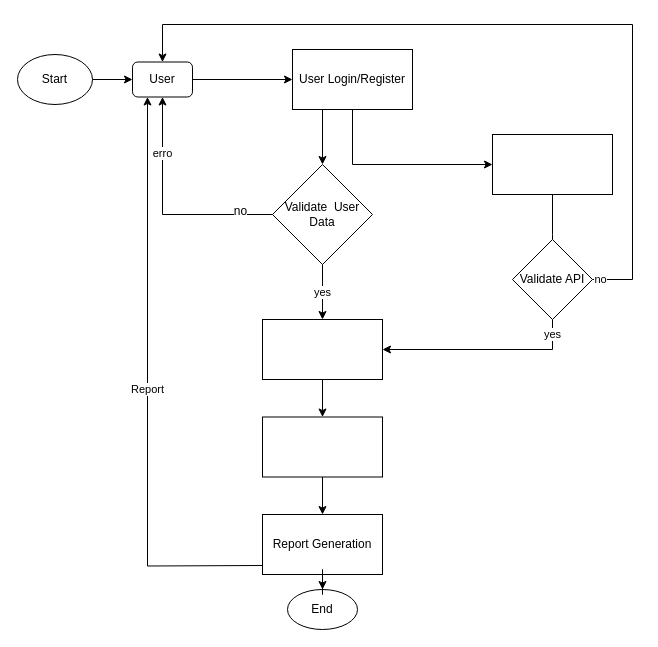
Some shapes in this 658 by 647 pixel diagram are drawn without their labels. Each missing label, with the box of its shape:
Data Analysis: (262, 416, 382, 477)
Generate API Key: (492, 134, 612, 194)
Web Scrapper: (262, 318, 382, 380)
